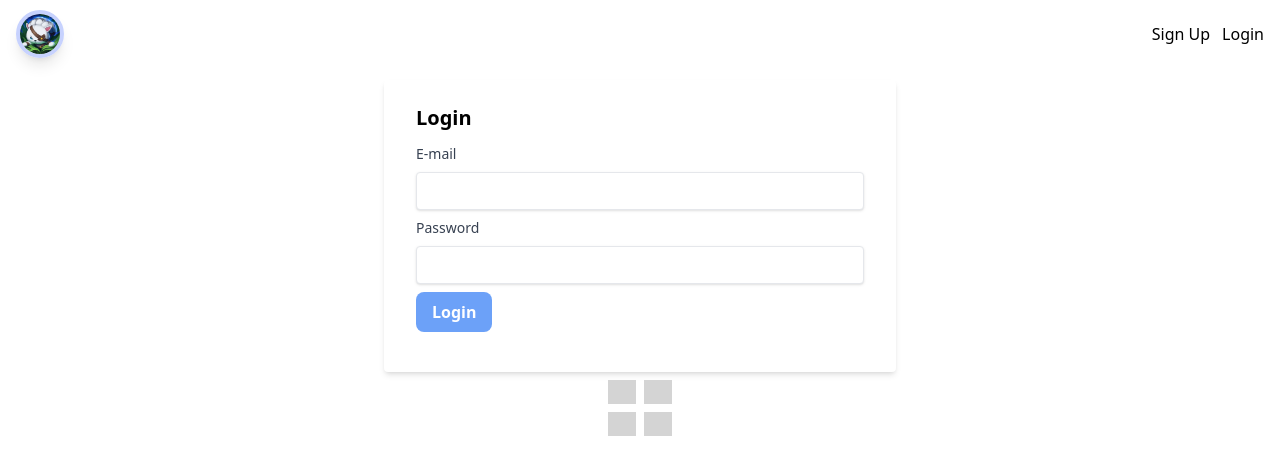
App › Login › should redirect to home page when login successfully
In the field labelled "E-mail": {"x": 640, "y": 191} [416,172,864,210], type "admin@localhost"
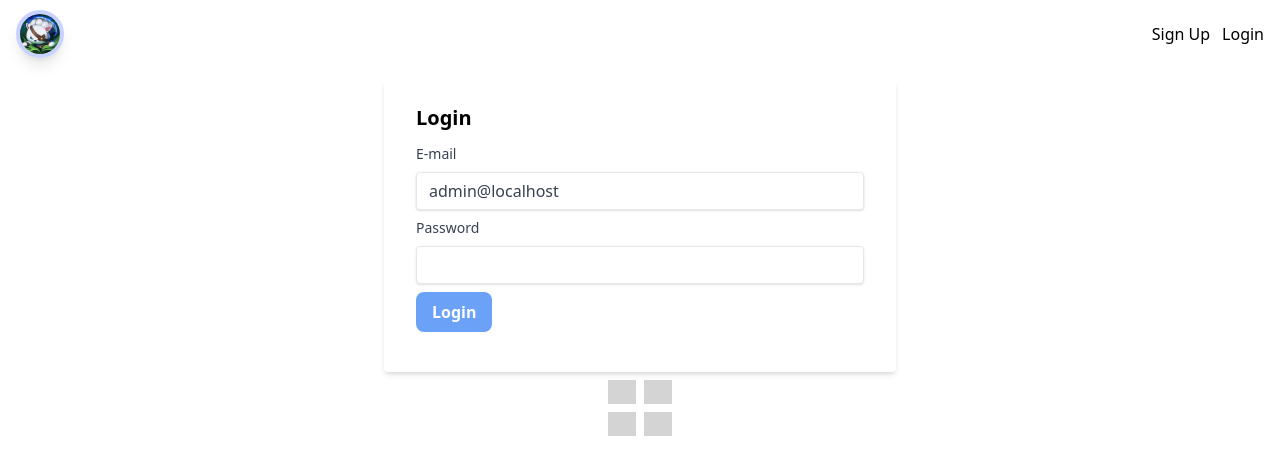
In the password field labelled "Password": {"x": 640, "y": 265} [416,246,864,284], type "admin"
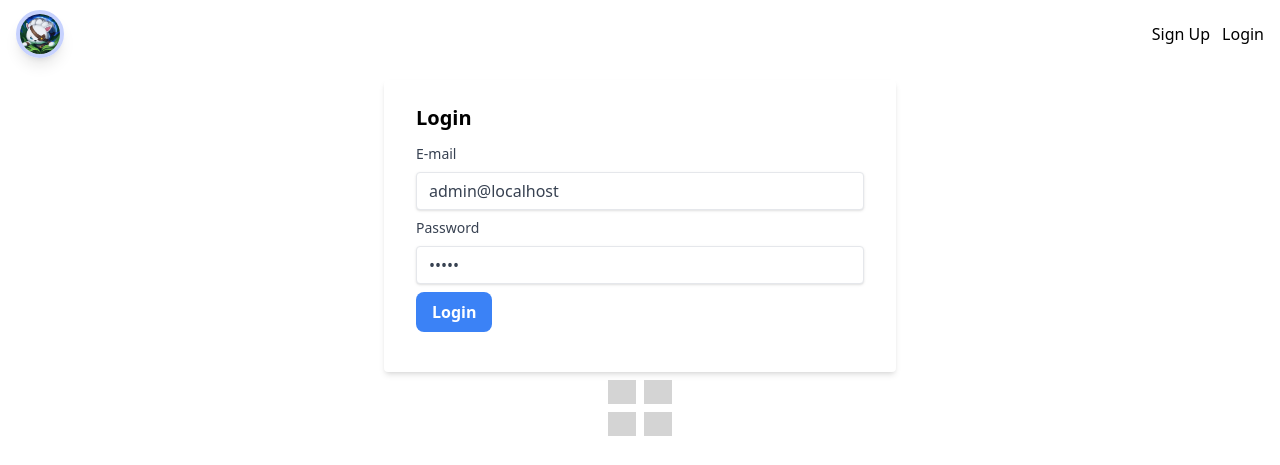
Click the button "Login": {"x": 454, "y": 312} [416,292,492,332]
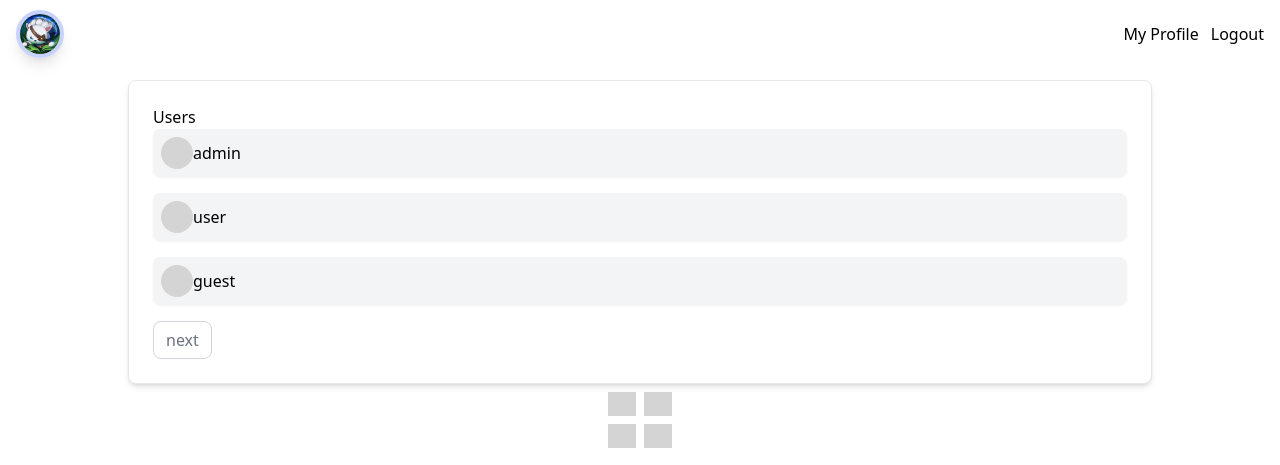
Now the element with test id "home-page" is shown, box [128,80,1152,384]
